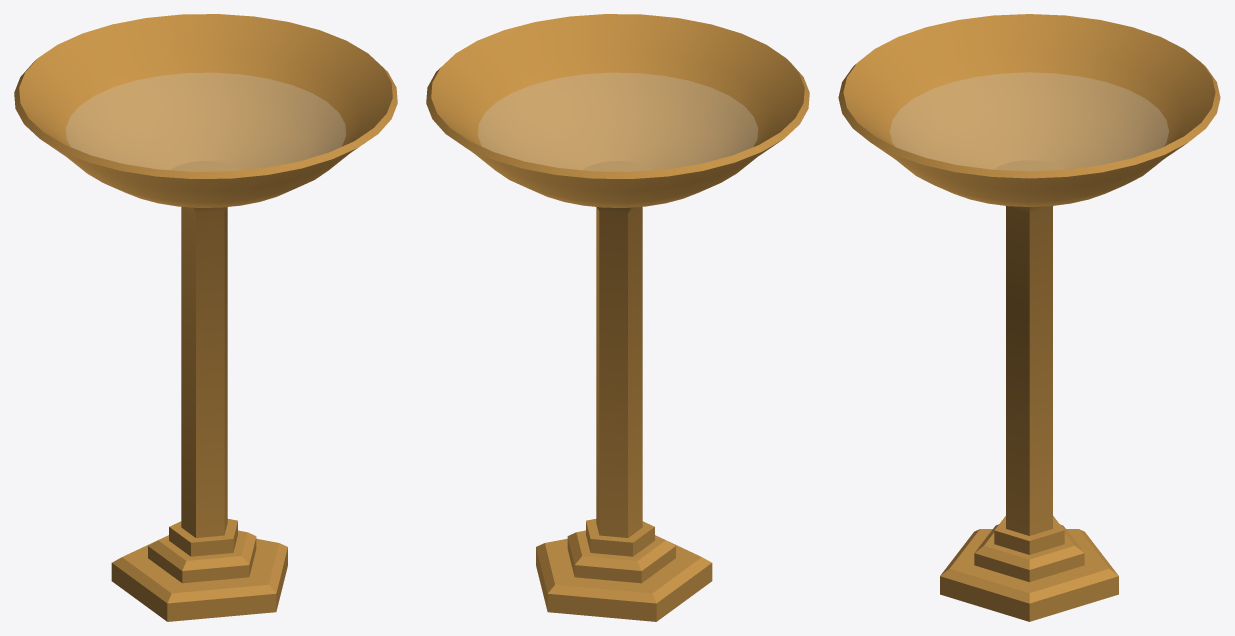
File: oga_birdbath.gltf
3 views of the same model, side by side, from view 1: azimuth 30°, elevation 25°; view 2: azimuth 150°, elevation 25°; view 3: azimuth 270°, elevation 25° (orthographic).
Parts seen in each view (by area): view 1: birdBath, water; view 2: birdBath, water; view 3: birdBath, water.
Part boxes in pixels (left/top/right/bottom): birdBath: left=14, top=14, right=397, bottom=621; water: left=66, top=73, right=345, bottom=171; birdBath: left=426, top=14, right=809, bottom=621; water: left=478, top=73, right=757, bottom=171; birdBath: left=838, top=14, right=1220, bottom=621; water: left=890, top=72, right=1168, bottom=170.
Bounding box in the file's own units: 0.6365 × 0.8996 × 0.6365.
